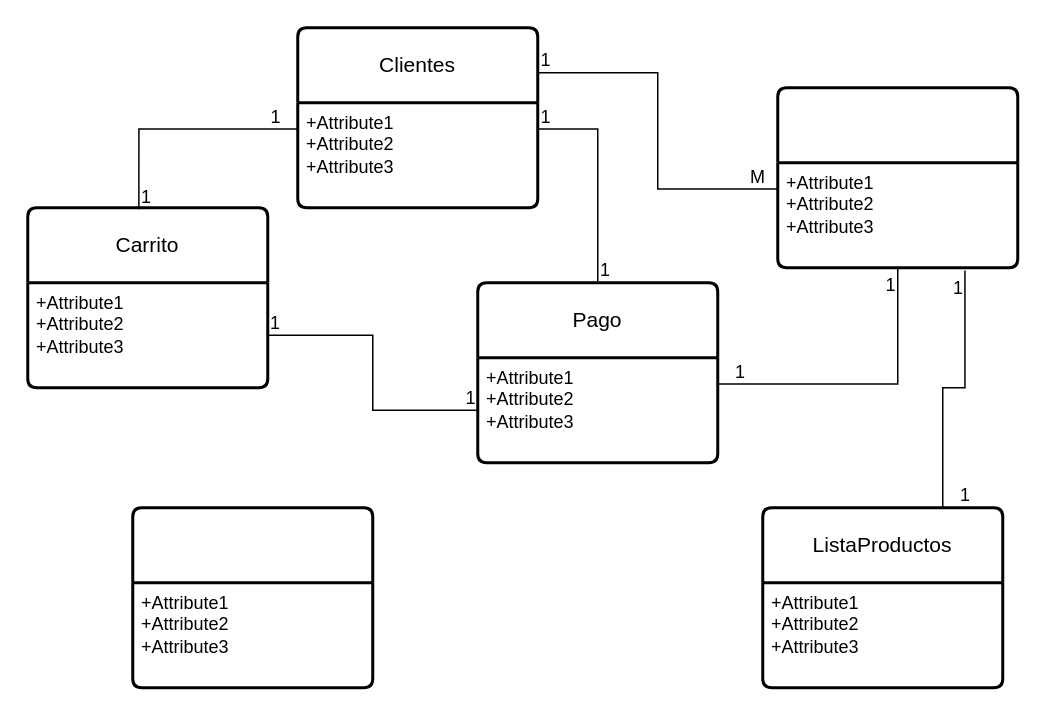
Image size: 1044x714. Some labels were removed from this diagram. Here are the shapes that lost their labels. From the top down, the box of each, then its label:
(776, 86, 1018, 268): Compra
(130, 506, 374, 688): Administrador
